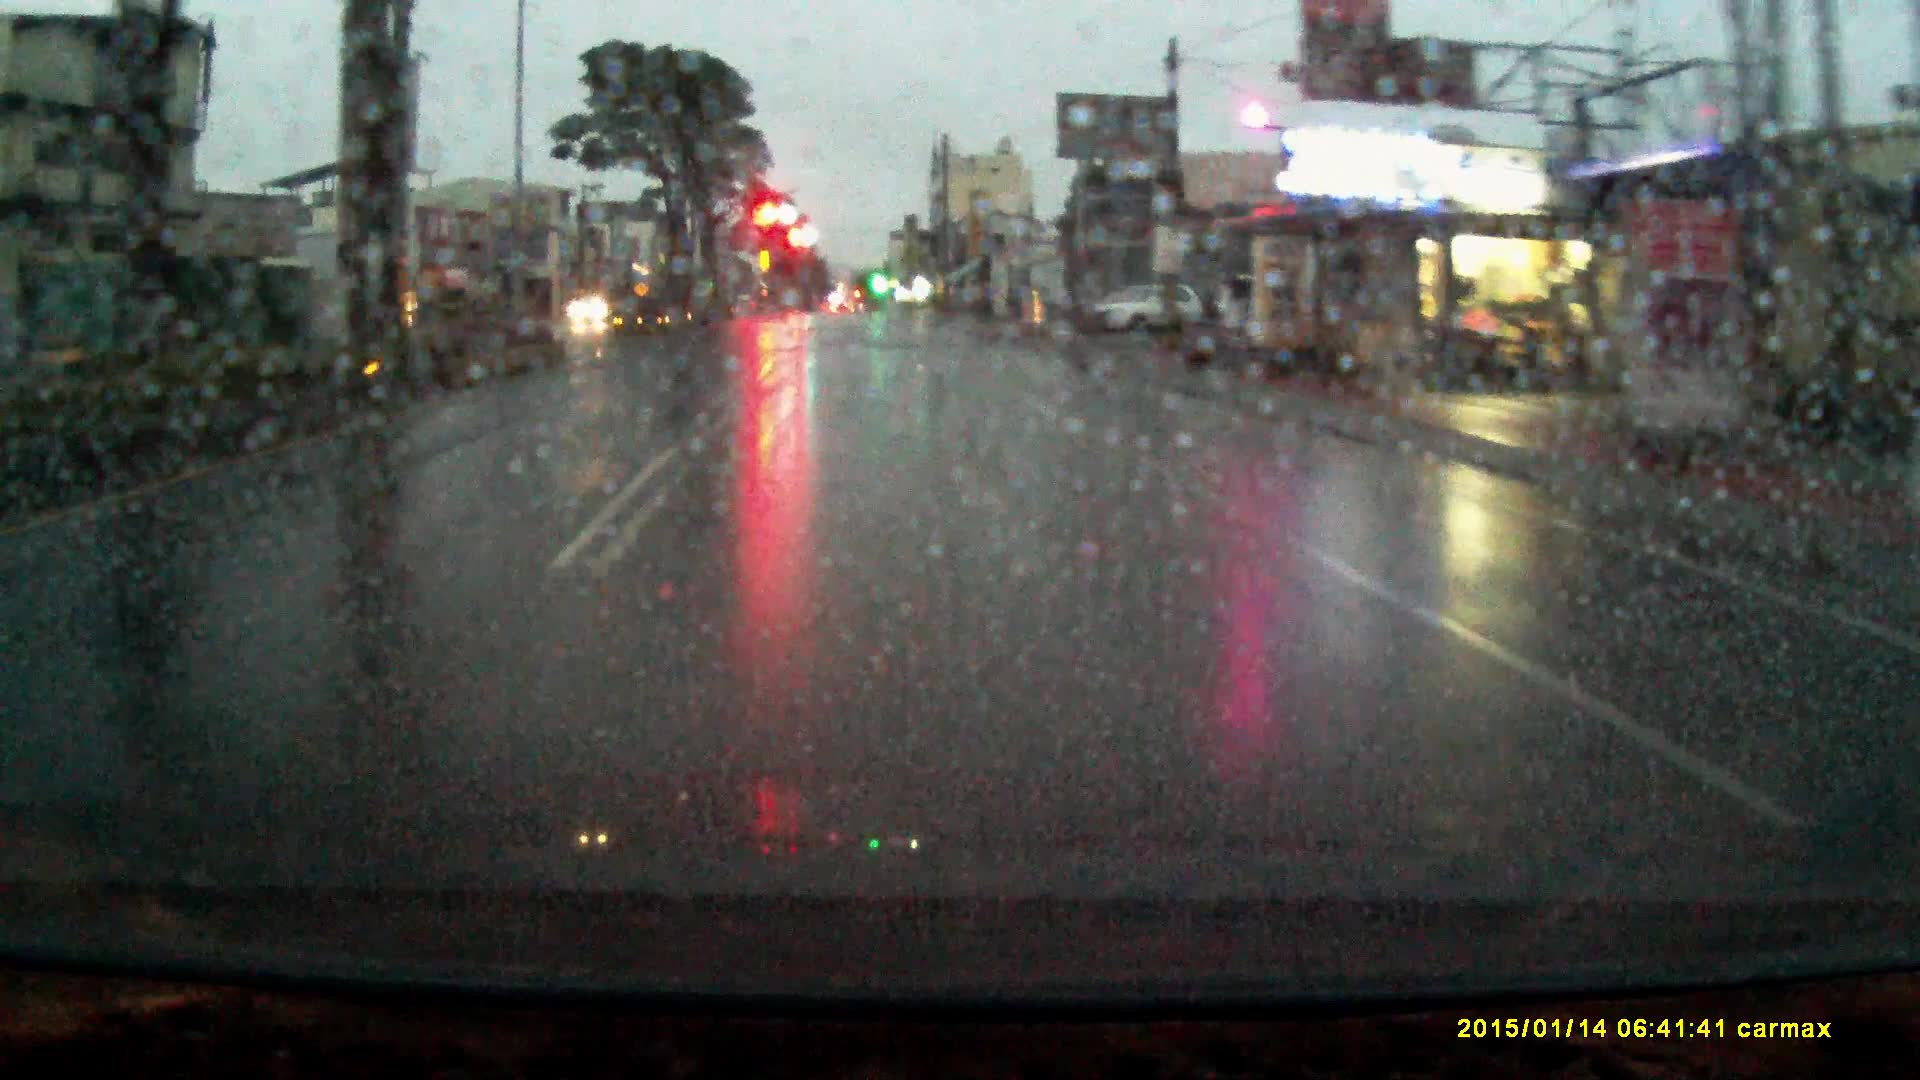vehicle: (1092, 284, 1207, 339), (567, 294, 616, 328)
